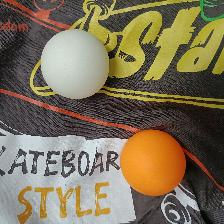WhiteBall: (39, 29, 108, 99)
YellowBall: (119, 129, 186, 196)
